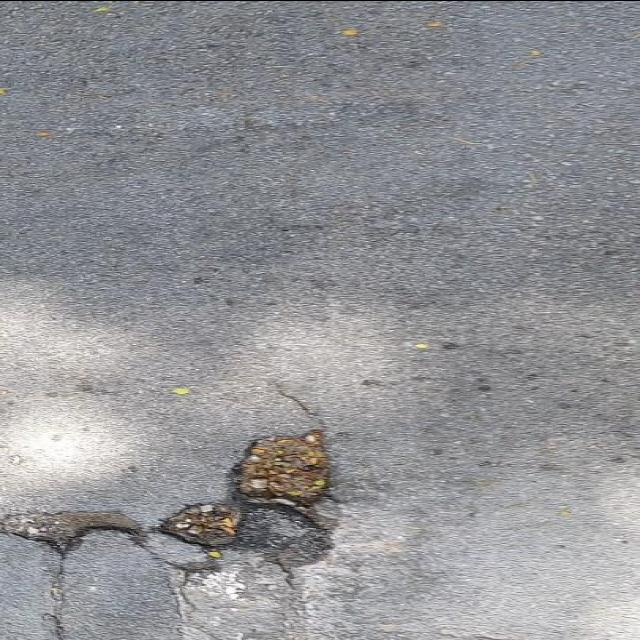potholes: (2, 404, 424, 640)
